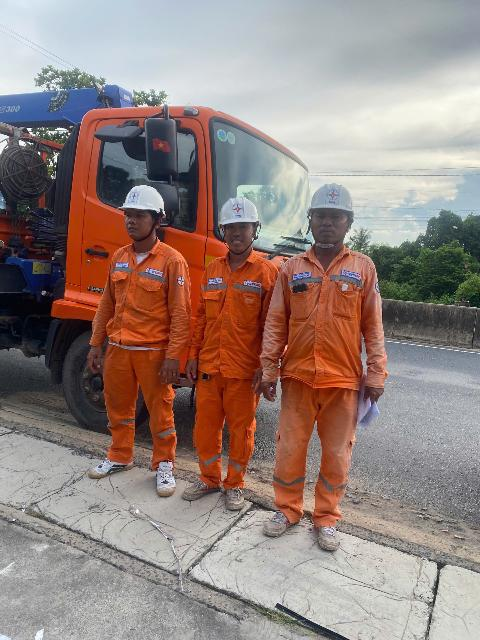helmet: (303, 167, 355, 224), (112, 177, 165, 221), (211, 197, 268, 231)
shoes: (83, 452, 133, 485), (152, 455, 181, 508), (259, 505, 302, 538), (186, 466, 223, 502), (316, 518, 342, 555), (223, 471, 243, 515)
